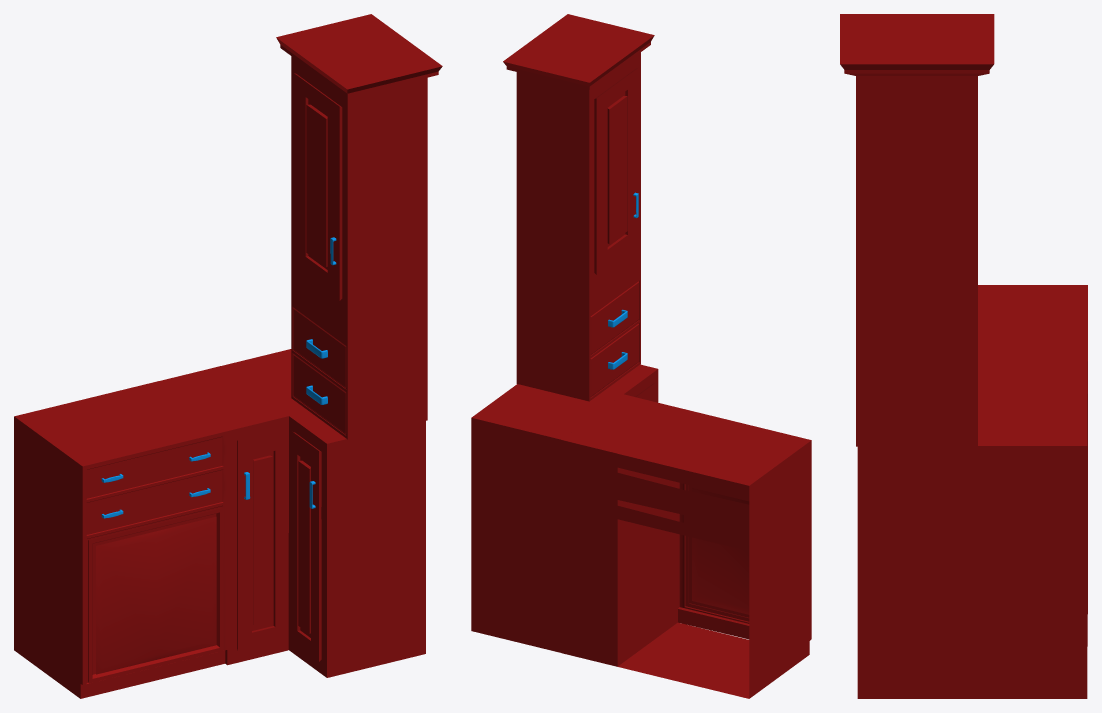
The model's file is anglev2.fbx.
3 views of the same model, side by side, from view 1: azimuth 30°, elevation 25°; view 2: azimuth 150°, elevation 25°; view 3: azimuth 270°, elevation 25° (orthographic). The views are drawn at different scales.
Visible parts, largest first — view 1: angle; view 2: angle; view 3: angle.
Boxes of the visible parts, x1=… form: angle: x1=14, y1=14, x2=442, y2=698; angle: x1=471, y1=14, x2=811, y2=698; angle: x1=840, y1=14, x2=1087, y2=698.
Size of the model in its own units: 129 by 233 by 81.97.
